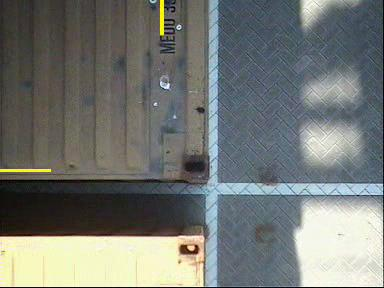groundmarker_2: (156, 185, 230, 228), (181, 1, 224, 53)
